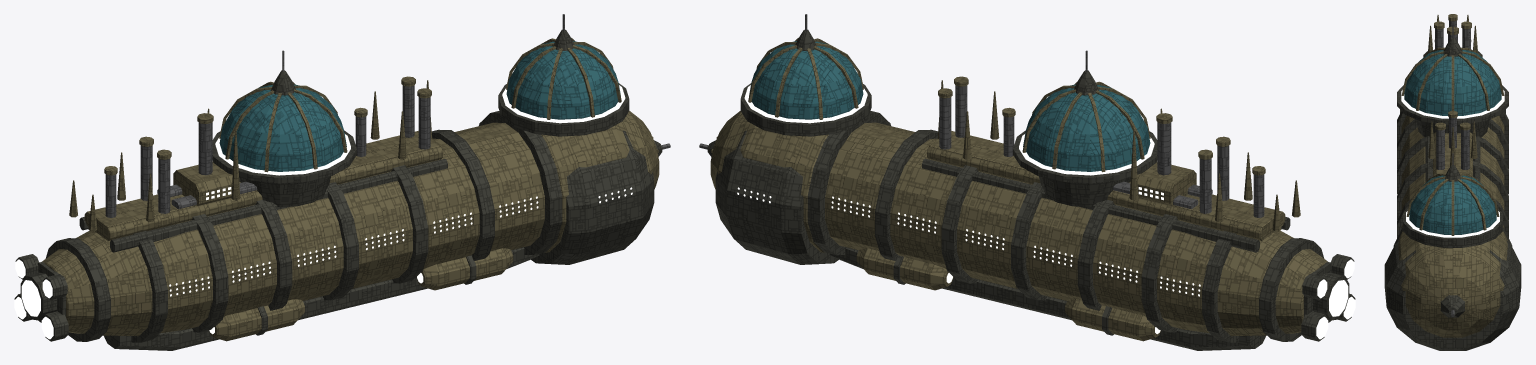
The model's file is water_lod0.glb.
The picture shows the model from 3 angles, left to right: view 1: azimuth 30°, elevation 25°; view 2: azimuth 150°, elevation 25°; view 3: azimuth 270°, elevation 25°; orthographic projection. The views are drawn at different scales.
Visible parts, largest first — view 1: water_lod0_body, water_lod0_glow; view 2: water_lod0_body, water_lod0_glow; view 3: water_lod0_body, water_lod0_glow.
Part boxes in pixels (<box>): water_lod0_body: <box>14,14,670,350</box>; water_lod0_glow: <box>14,85,632,339</box>; water_lod0_body: <box>699,14,1355,350</box>; water_lod0_glow: <box>737,85,1355,339</box>; water_lod0_body: <box>1384,14,1521,350</box>; water_lod0_glow: <box>1401,90,1504,237</box>.
Bounding box in the file's own units: 22.99 × 9.3 × 5.51.
2 materials, 1 textured.
